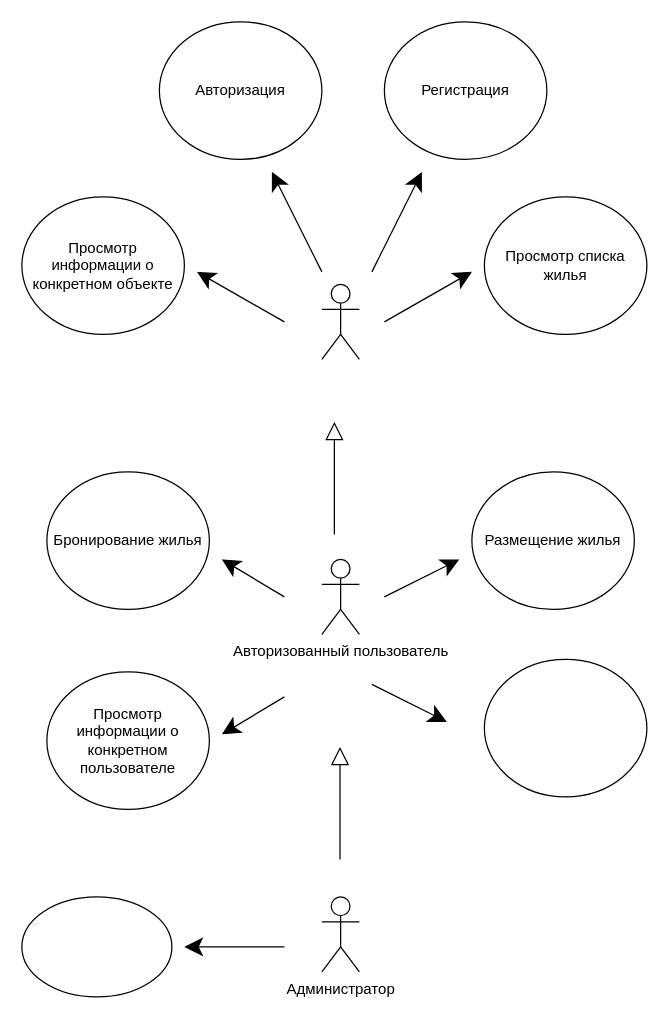
The diagram is 669 pixels wide and 1020 high, and some of its shapes have lost their labels. The centre of each missing label's shape, as x and y in pixels:
Неавторизованный пользователь: pixel 340 321
Просмотр и редактирование размещенного жилья: pixel 565 727
Удаление пользователей: pixel 96 946
